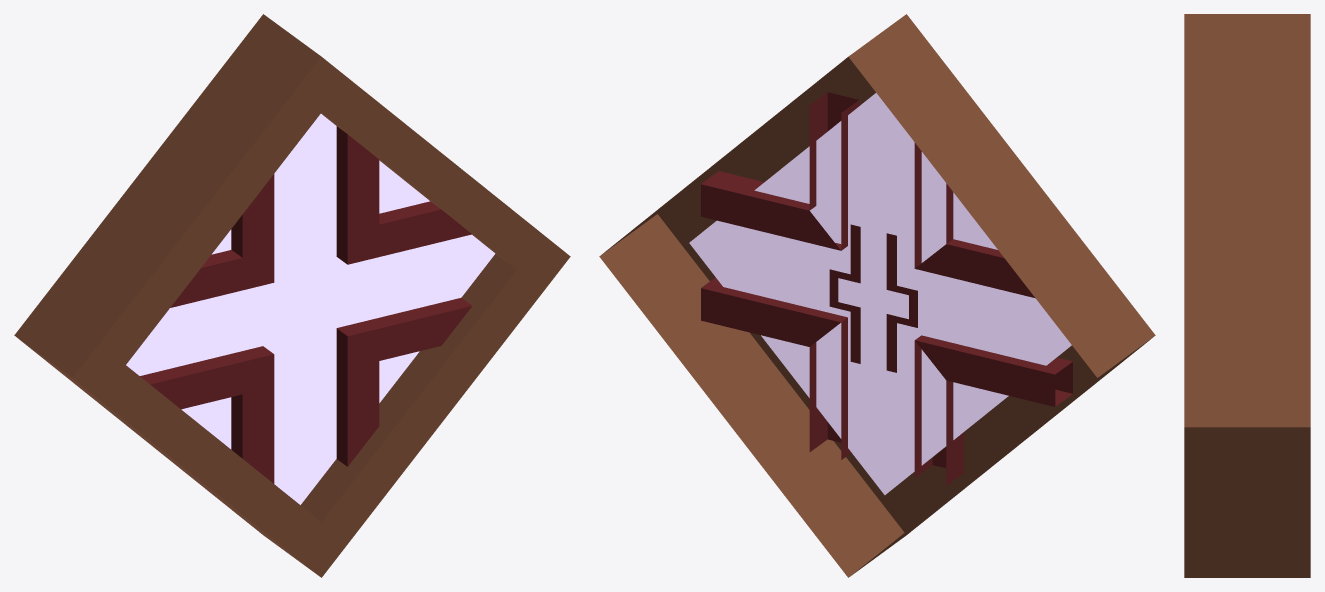
File: Window_2 Asia.fbx
3 views of the same model, side by side, from view 1: azimuth 30°, elevation 25°; view 2: azimuth 150°, elevation 25°; view 3: azimuth 270°, elevation 25° (orthographic). The views are drawn at different scales.
Parts seen in each view (by area): view 1: Window_2; view 2: Window_2; view 3: Window_2.
Boxes of the visible parts, bbox=[...] form: Window_2: bbox=[14, 14, 570, 577]; Window_2: bbox=[599, 14, 1155, 577]; Window_2: bbox=[1184, 14, 1310, 577].
Bounding box in the file's own units: 0.886 × 0.886 × 0.1796.
